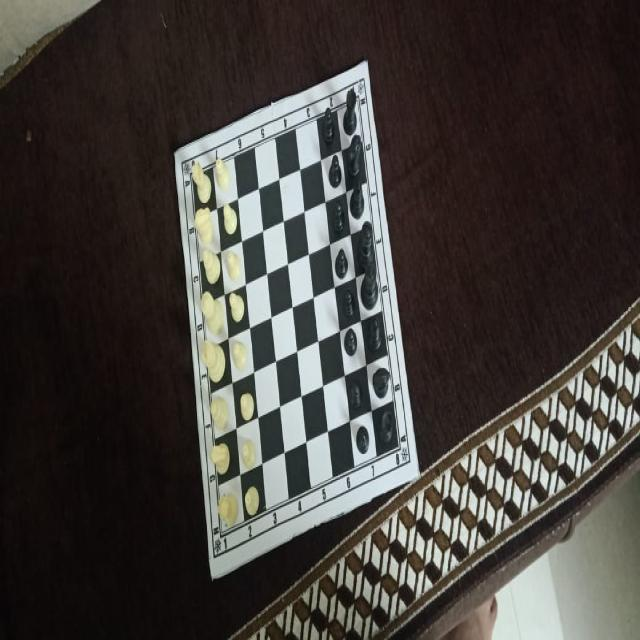corners: (168, 142, 182, 169), (205, 570, 218, 591), (361, 54, 372, 76), (414, 466, 425, 487)
